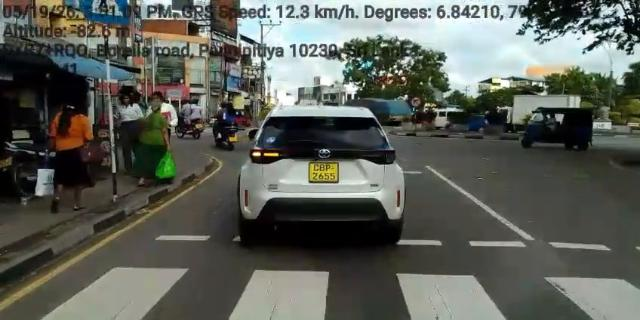number plate: (310, 161, 338, 185)
